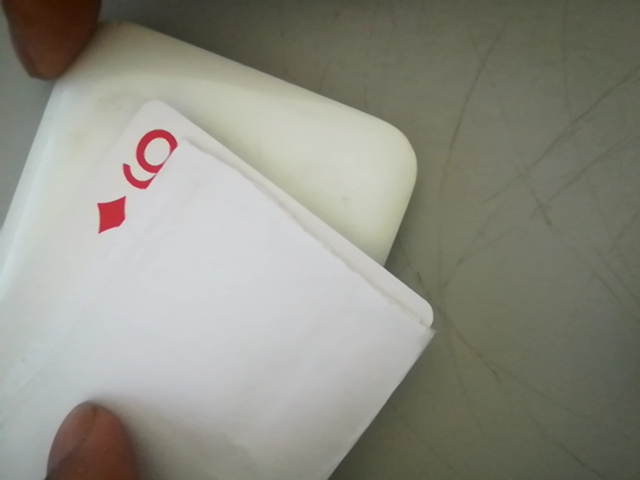fk 9: (92, 118, 187, 234)
